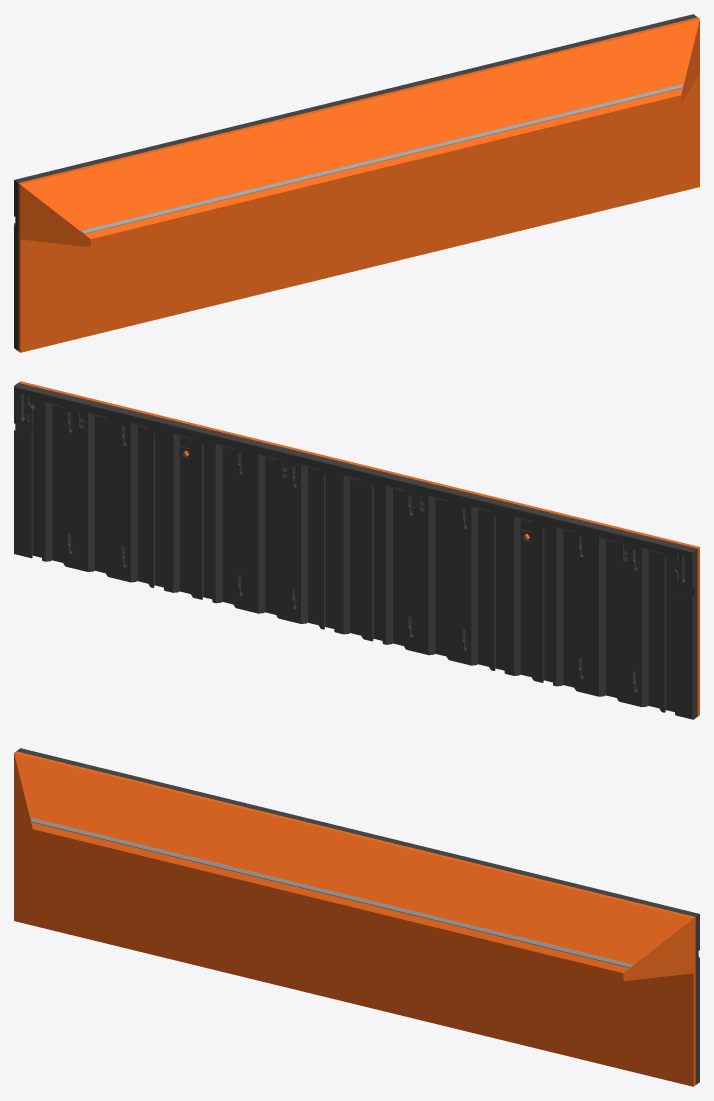
The model's file is Faceplate_ClassicDecor_4W-15H.lib.glb.
The picture shows the model from 3 angles, top to bottom: view 1: azimuth 30°, elevation 25°; view 2: azimuth 150°, elevation 25°; view 3: azimuth 330°, elevation 25°; orthographic projection.
Visible parts, largest first — view 1: Faceplate_ClassicDecor_4W-15H; view 2: Faceplate_ClassicDecor_4W-15H; view 3: Faceplate_ClassicDecor_4W-15H.
Part boxes in pixels (x1,y1,x2,y2): Faceplate_ClassicDecor_4W-15H: (14, 14, 699, 352); Faceplate_ClassicDecor_4W-15H: (14, 381, 699, 719); Faceplate_ClassicDecor_4W-15H: (14, 748, 699, 1086).
Bounding box in the file's own units: 351 × 83 × 29.18.
